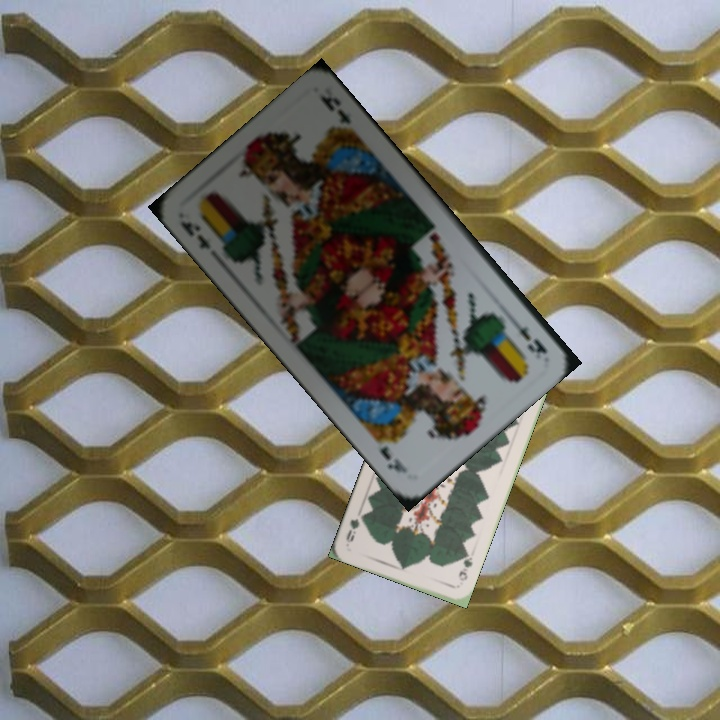EK: (505, 312, 550, 362), (176, 216, 214, 253)
G9: (454, 548, 475, 584)
